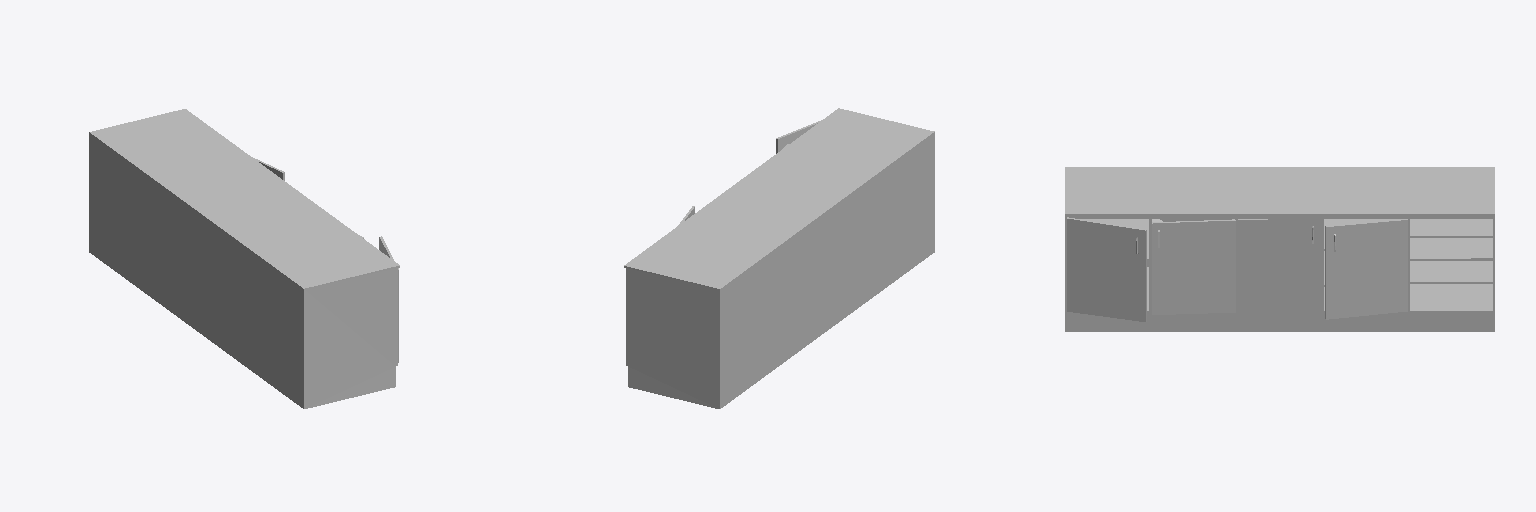
Rendered from Kitchen01.obj.
3 renders of one model, left to right at view 1: azimuth 30°, elevation 25°; view 2: azimuth 150°, elevation 25°; view 3: azimuth 270°, elevation 25°, orthographic.
Visible parts, largest first — view 1: Kitchen01_LOD0_Kitchen.005; view 2: Kitchen01_LOD0_Kitchen.005; view 3: Kitchen01_LOD0_Kitchen.005.
Boxes of the visible parts, box(x1,y1,x2,y2) form: Kitchen01_LOD0_Kitchen.005: box(89, 109, 399, 408); Kitchen01_LOD0_Kitchen.005: box(624, 108, 934, 408); Kitchen01_LOD0_Kitchen.005: box(1065, 167, 1494, 331).
Size of the model in its own units: 0.8676 by 0.8397 by 2.72.